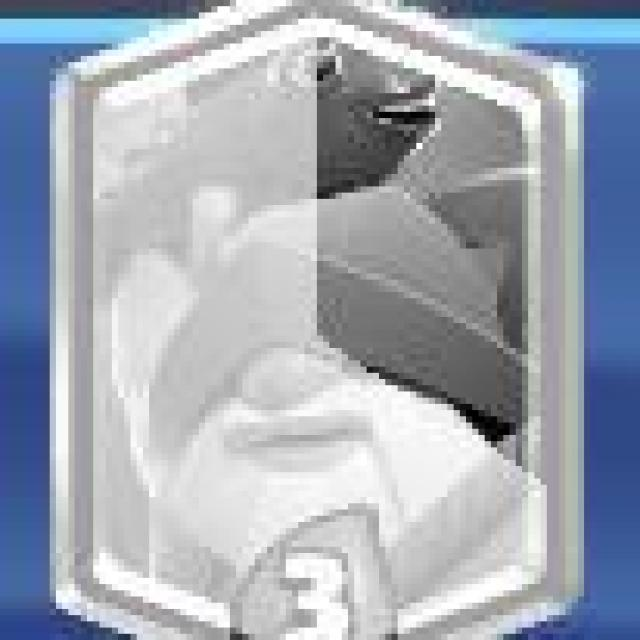Fisherman: (46, 2, 582, 640)
